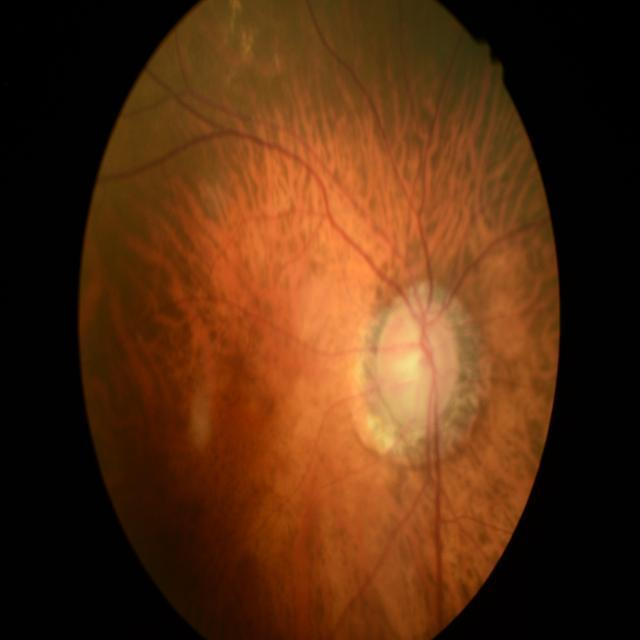cup: (391, 317, 444, 415)
disk: (378, 298, 458, 425)
